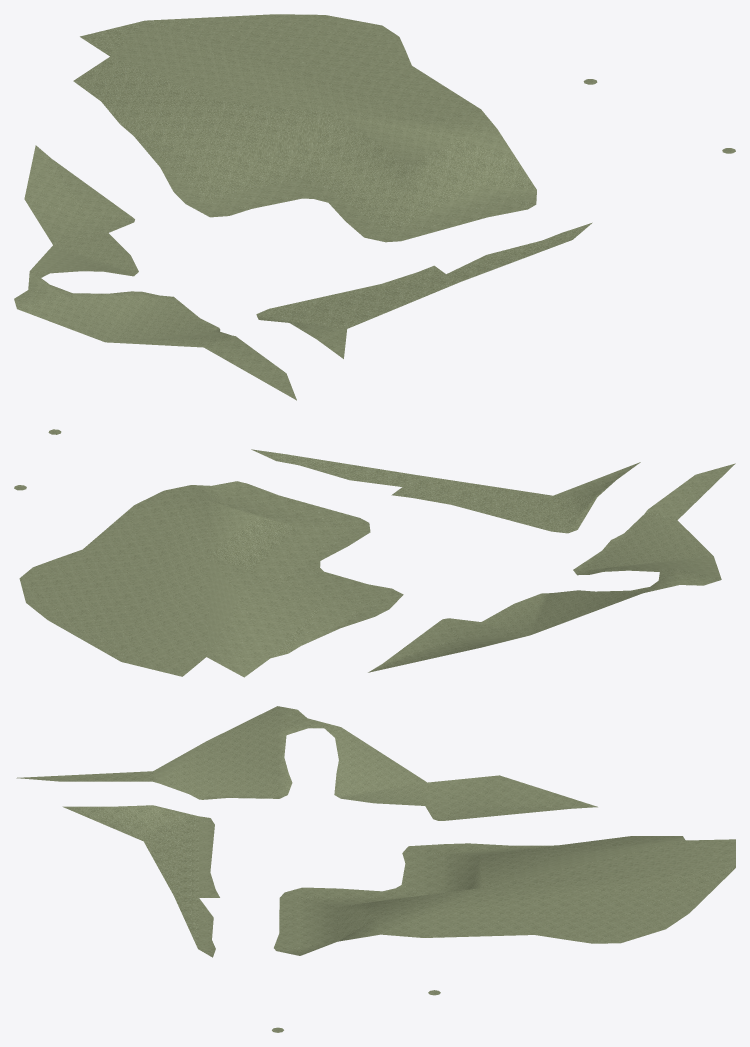
The model's file is kd_stage_135d18_4_125.glb.
3 views of the same model, one above another, from view 1: azimuth 30°, elevation 25°; view 2: azimuth 150°, elevation 25°; view 3: azimuth 270°, elevation 25° (orthographic). The views are drawn at different scales.
Visible parts, largest first — view 1: kd_stage_135d18_4_125; view 2: kd_stage_135d18_4_125; view 3: kd_stage_135d18_4_125.
Boxes of the visible parts, x1,y1,x2,y2 form: kd_stage_135d18_4_125: (14,14,735,400); kd_stage_135d18_4_125: (14,429,735,677); kd_stage_135d18_4_125: (16,706,735,1032).
Bounding box in the file's own units: 10.51 × 0.4709 × 10.25.
1 material, 1 textured.
